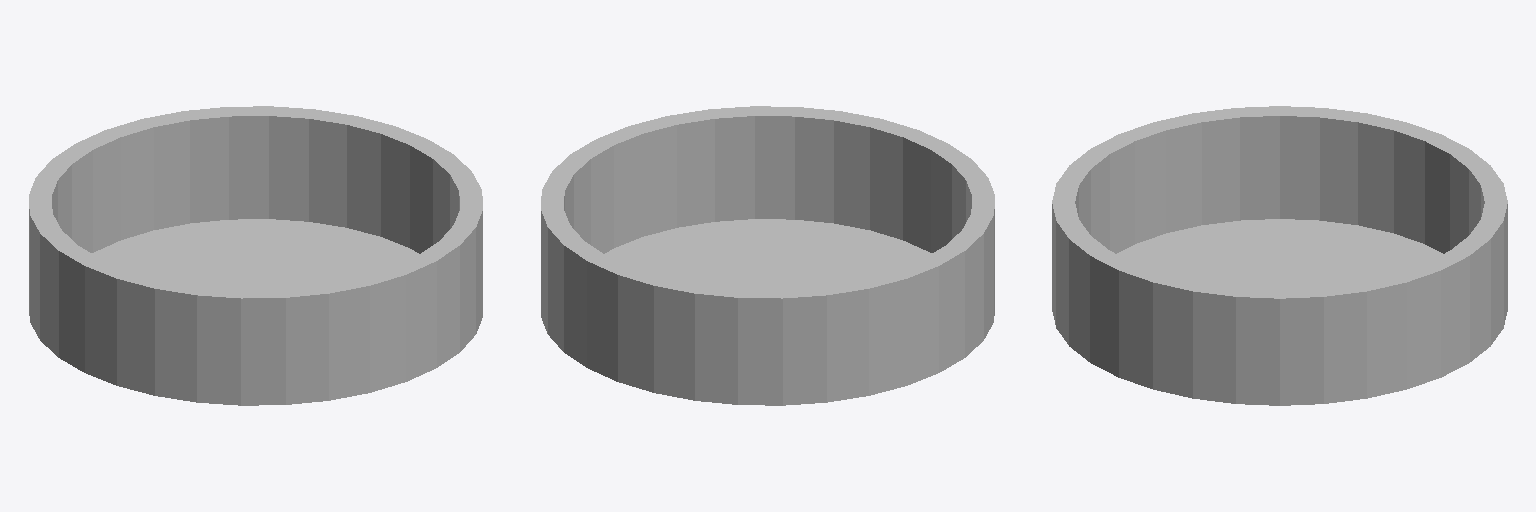
Rendered from arena.obj.
The picture shows the model from 3 angles: view 1: azimuth 30°, elevation 25°; view 2: azimuth 150°, elevation 25°; view 3: azimuth 270°, elevation 25°; orthographic projection.
Visible parts, largest first — view 1: Cylinder; view 2: Cylinder; view 3: Cylinder.
Part boxes in pixels (x1,y1,x2,y2): Cylinder: (29,106,482,405); Cylinder: (541,106,994,405); Cylinder: (1052,106,1507,405).
Size of the model in its own units: 200 by 51.89 by 200.